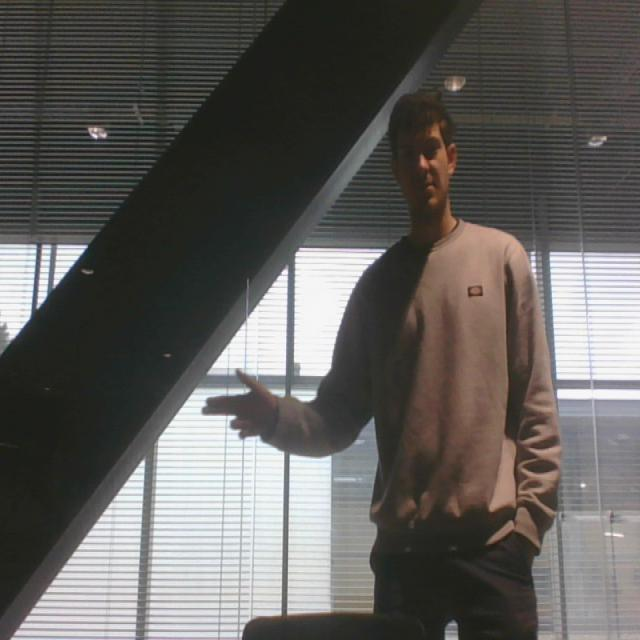left: (196, 362, 280, 451)
